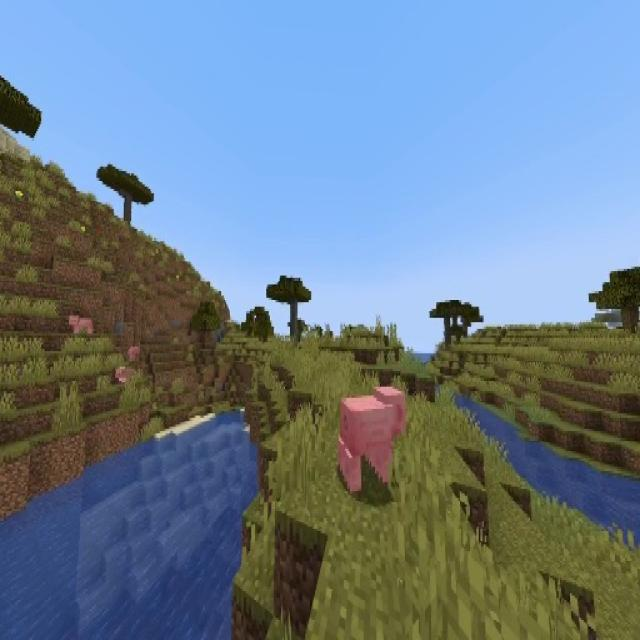acacia: (97, 165, 153, 229), (266, 274, 312, 343)
oak: (592, 267, 640, 332)
